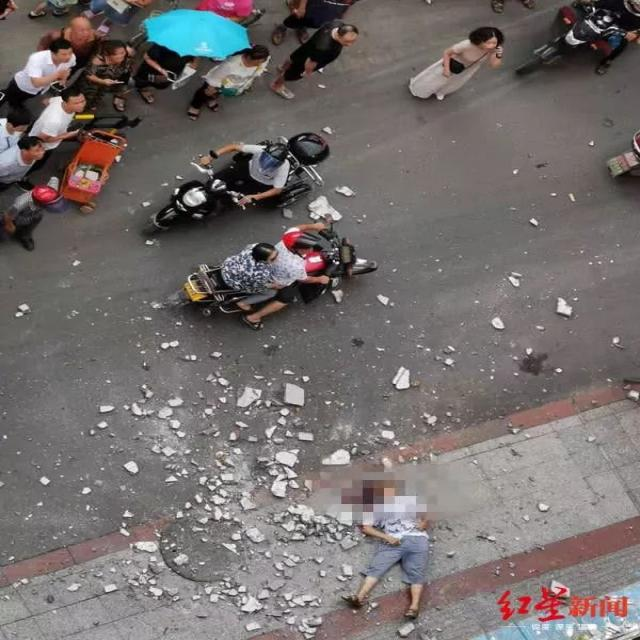10-: (0, 0, 639, 637)
down: (320, 465, 480, 626)
